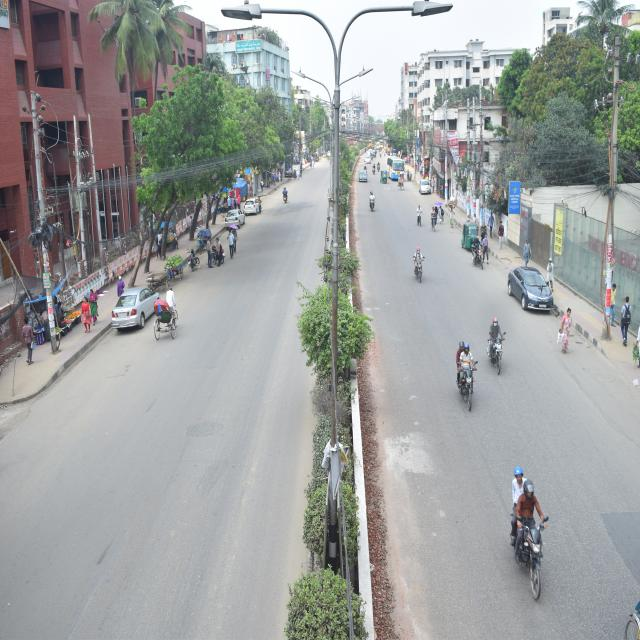bus: (386, 150, 415, 196)
car: (111, 276, 177, 367), (502, 255, 558, 334), (211, 197, 248, 239), (238, 193, 269, 226), (420, 174, 436, 208), (354, 164, 370, 191)
motorbike: (494, 451, 564, 601), (437, 326, 482, 424), (404, 236, 438, 318), (482, 302, 510, 397), (206, 228, 228, 285), (368, 186, 382, 230), (282, 182, 292, 215), (370, 161, 378, 178)
